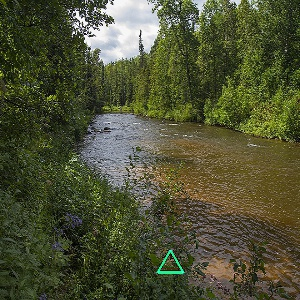triangle: (154, 245, 185, 278)
